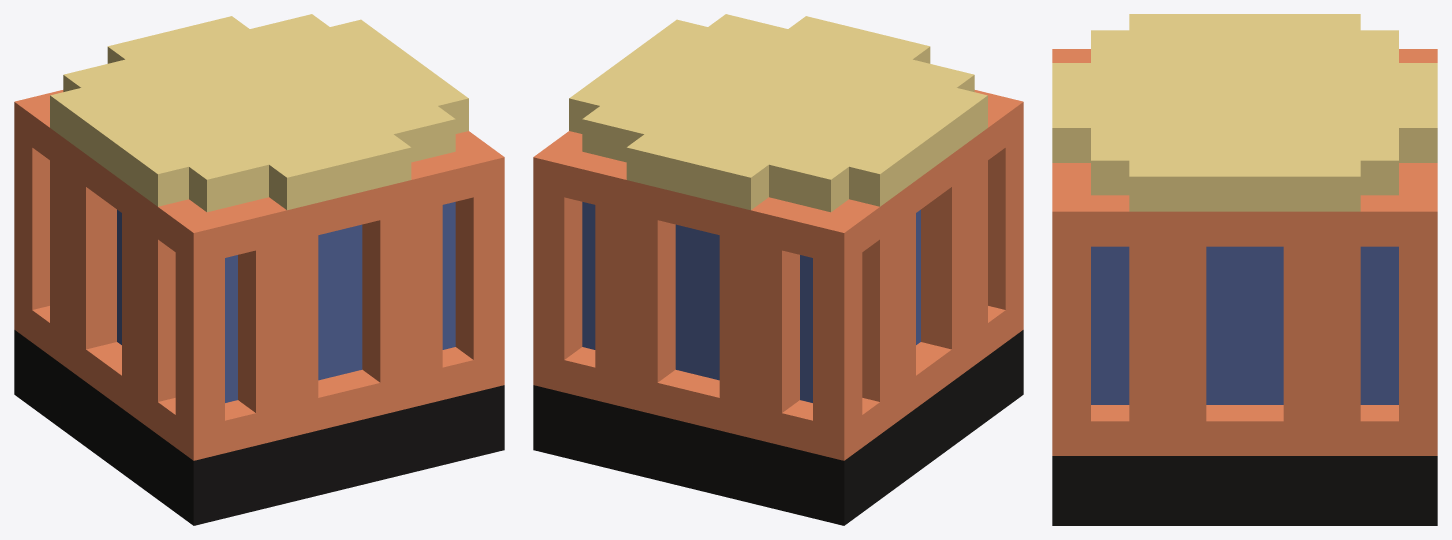
File: building2.obj
3 renders of one model, left to right at view 1: azimuth 30°, elevation 25°; view 2: azimuth 150°, elevation 25°; view 3: azimuth 270°, elevation 25°, orthographic. The views are drawn at different scales.
Size of the model in its own units: 1 by 1 by 1.
Materials: 1 (1 with a texture image).
